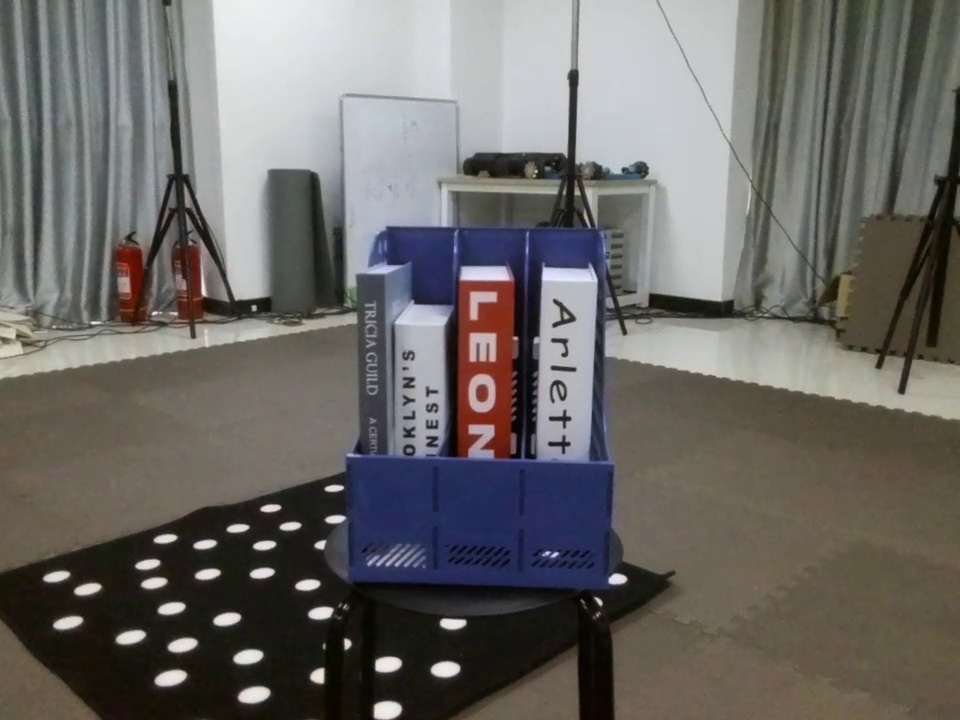files: (338, 211, 619, 600)
